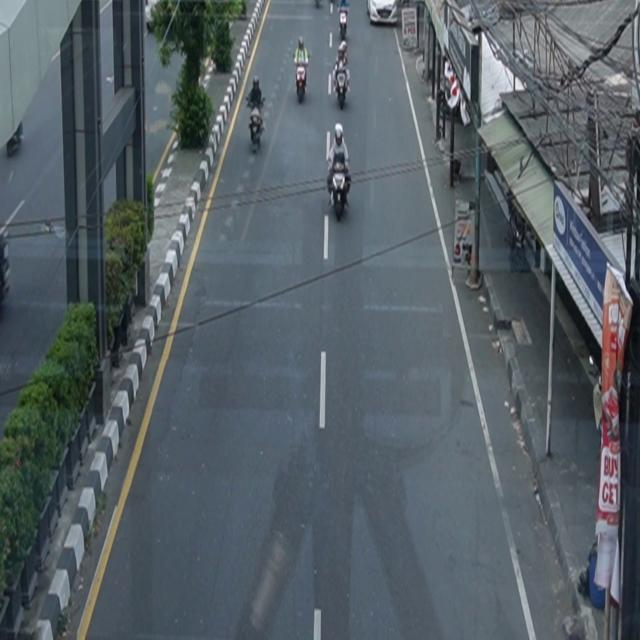car: (367, 1, 398, 26)
